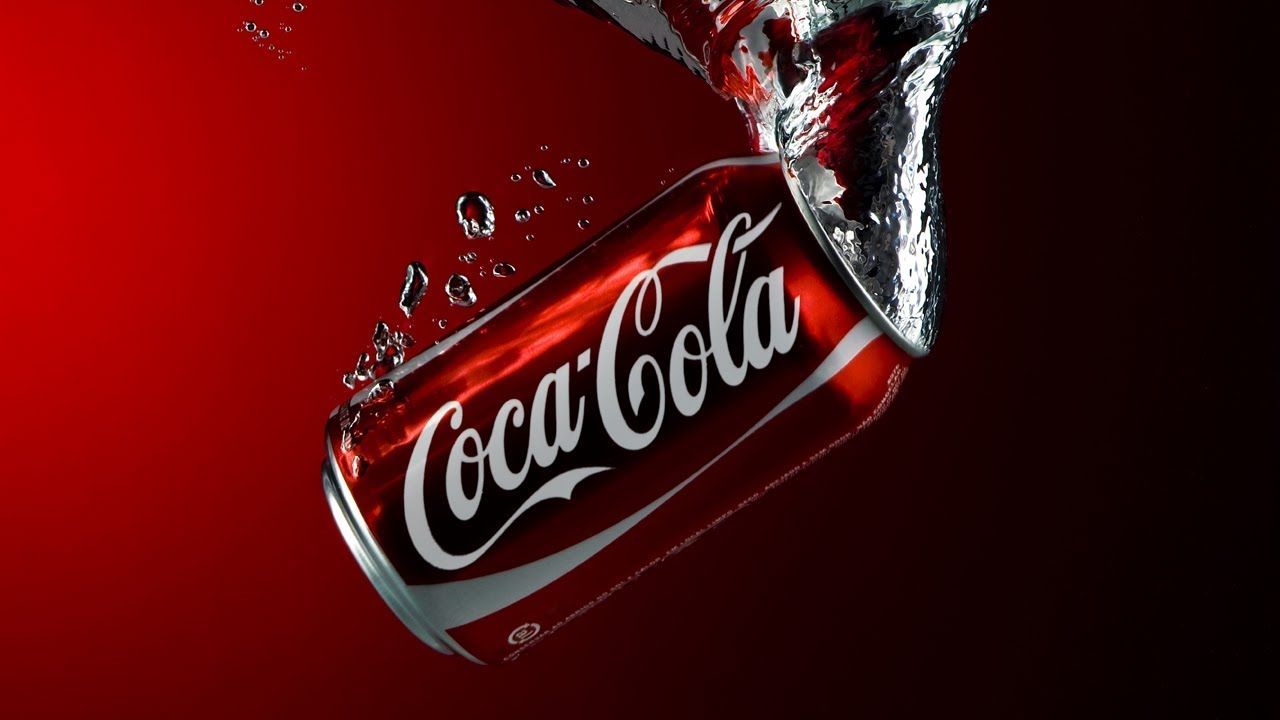Coca-Cola: (316, 127, 780, 642)
